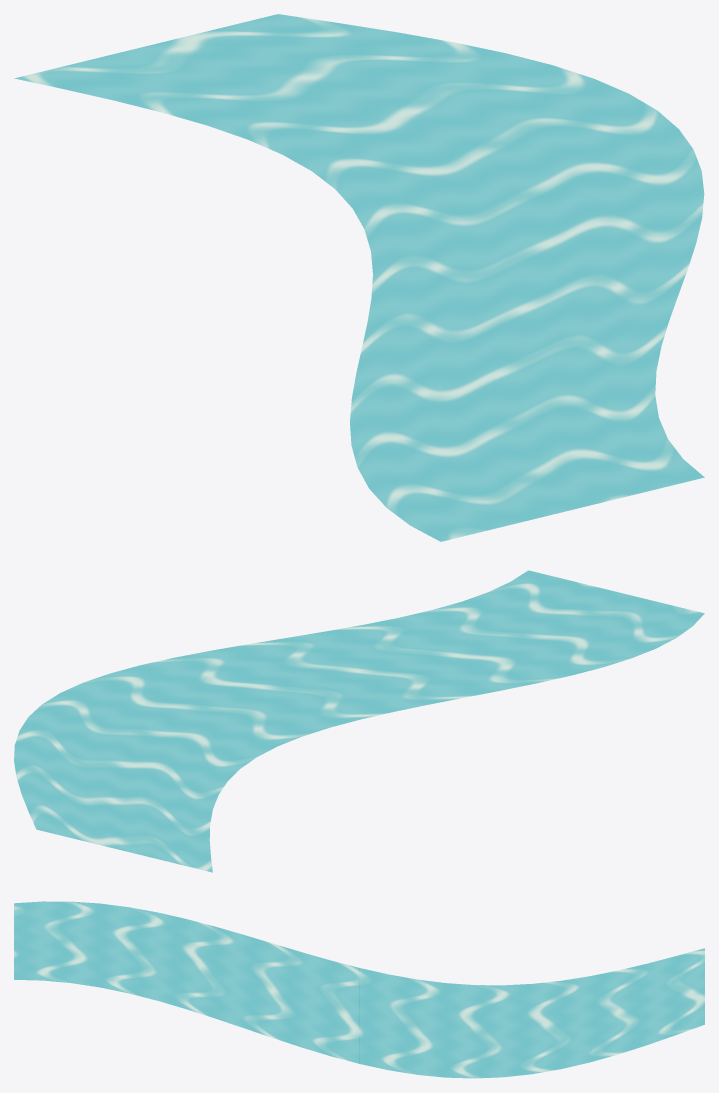
Rendered from Origin_Stream_Surface.glb.
The picture shows the model from 3 angles, top to bottom: view 1: azimuth 30°, elevation 25°; view 2: azimuth 150°, elevation 25°; view 3: azimuth 270°, elevation 25°; orthographic projection. The views are drawn at different scales.
Parts seen in each view (by area): view 1: Origin_Stream_Surface; view 2: Origin_Stream_Surface; view 3: Origin_Stream_Surface.
Boxes of the visible parts, left/top/right/bottom form: Origin_Stream_Surface: left=14, top=14, right=704, bottom=541; Origin_Stream_Surface: left=14, top=570, right=704, bottom=872; Origin_Stream_Surface: left=14, top=901, right=704, bottom=1078.
Bounding box in the file's own units: 2.73 × 0 × 4.5.
Materials: 1 (1 with a texture image).
